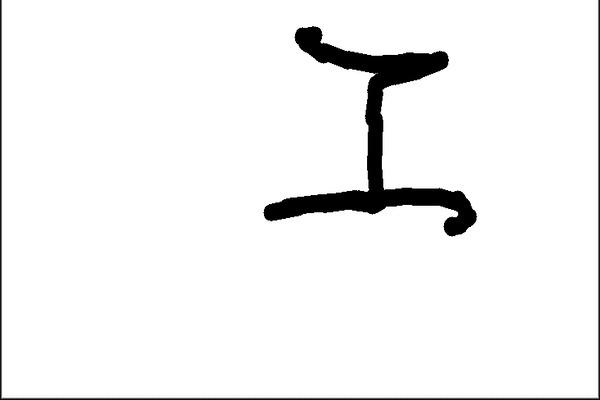i: (257, 8, 487, 240)
